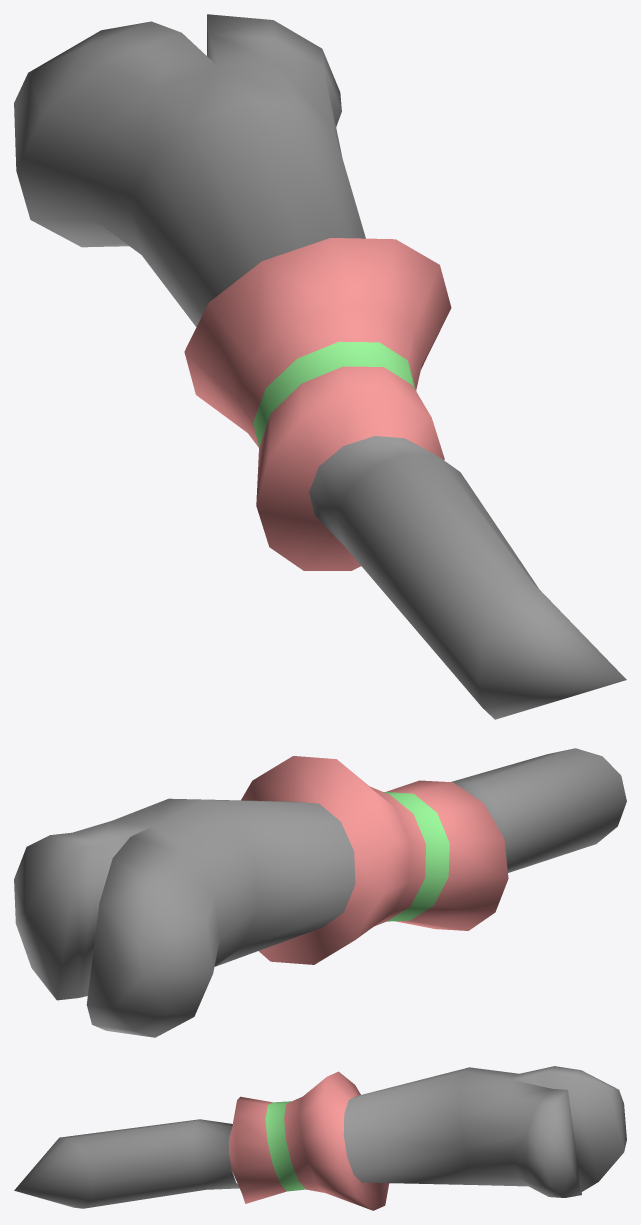
The model's file is bone_generic_village_A.gltf.
The picture shows the model from 3 angles, top to bottom: view 1: azimuth 30°, elevation 25°; view 2: azimuth 150°, elevation 25°; view 3: azimuth 270°, elevation 25°; orthographic projection. The views are drawn at different scales.
Parts seen in each view (by area): view 1: bone_generic_village_A; view 2: bone_generic_village_A; view 3: bone_generic_village_A.
Boxes of the visible parts, x1,y1,x2,y2 form: bone_generic_village_A: (14,14,626,719); bone_generic_village_A: (14,748,626,1037); bone_generic_village_A: (14,1066,626,1210).
Size of the model in its own units: 0.09 by 0.0746 by 0.2501.
